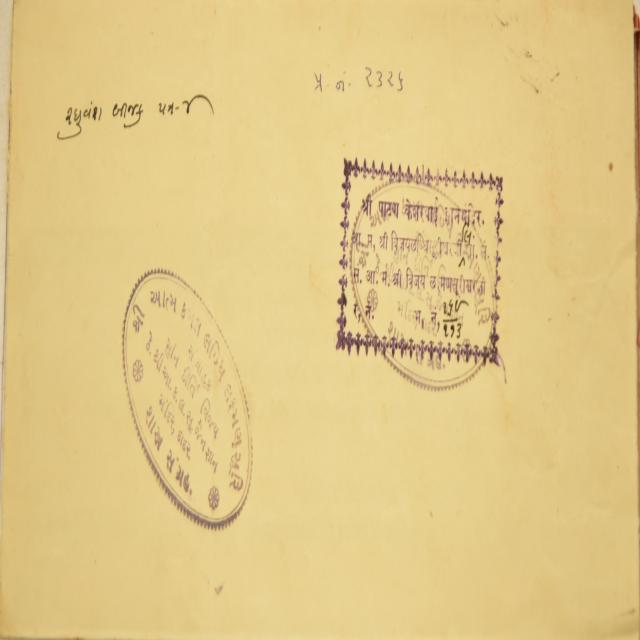text_paragraph: (0, 0, 638, 637)
